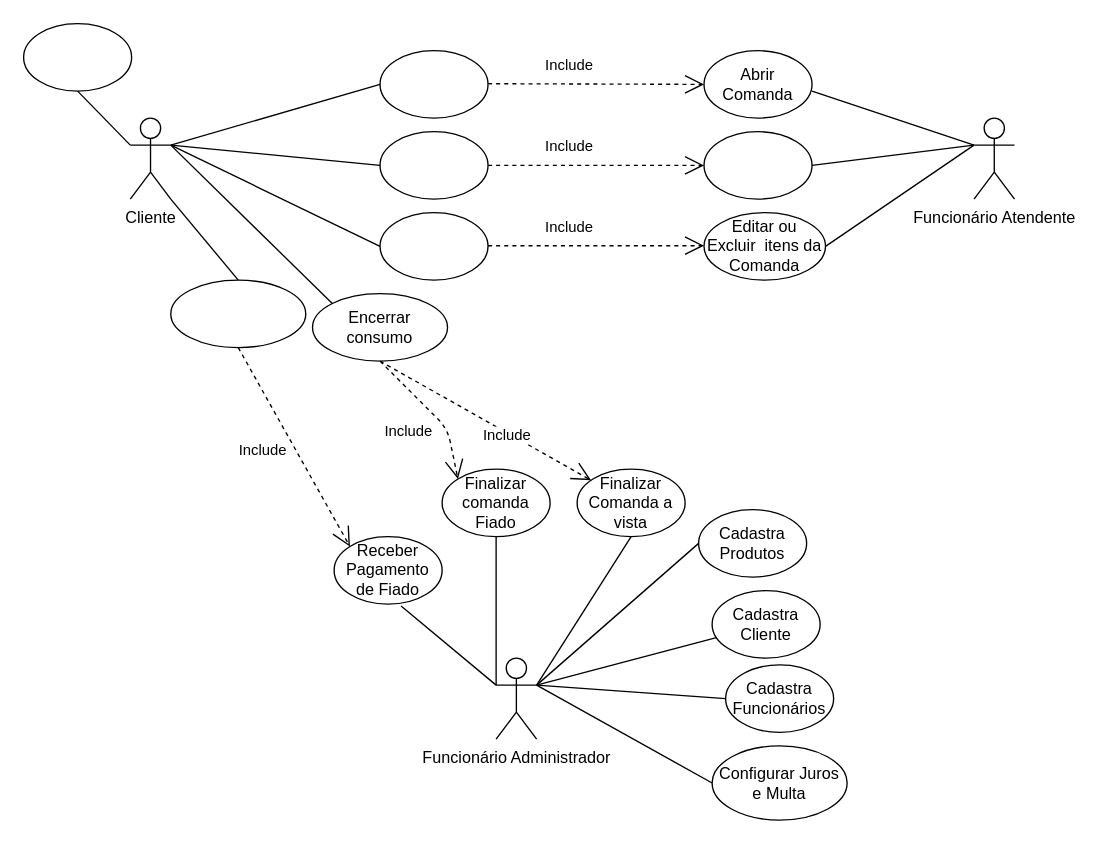
This 1099x844 diagram has some shape labels left out. Here are the shapes that lost their labels. From the top down, the centre of each, then its label:
At [77,56]: "Consulta Histórico de Pedidos".
At [433,83]: "Solicitar atendimento".
At [433,164]: "Realizar Pedidos".
At [757,164]: "Adicionar Produtos em Comanda".
At [433,245]: "Cancelar Pedidos".
At [237,313]: "Pagar Fiados".
